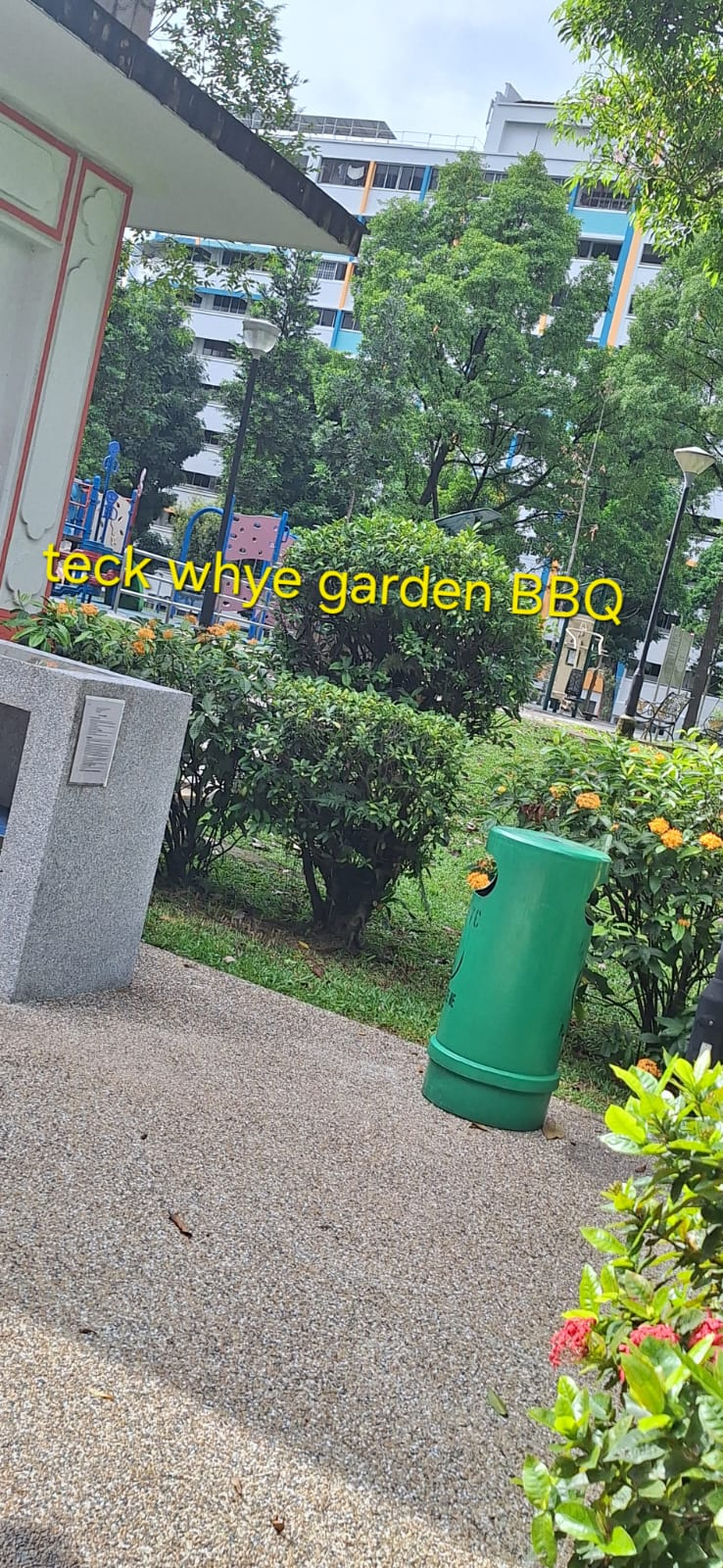bin_empty: (422, 827, 606, 1131)
